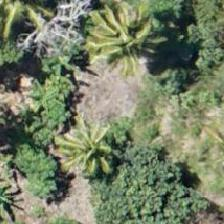coconut_tree: (41, 108, 131, 198), (70, 0, 160, 74)
